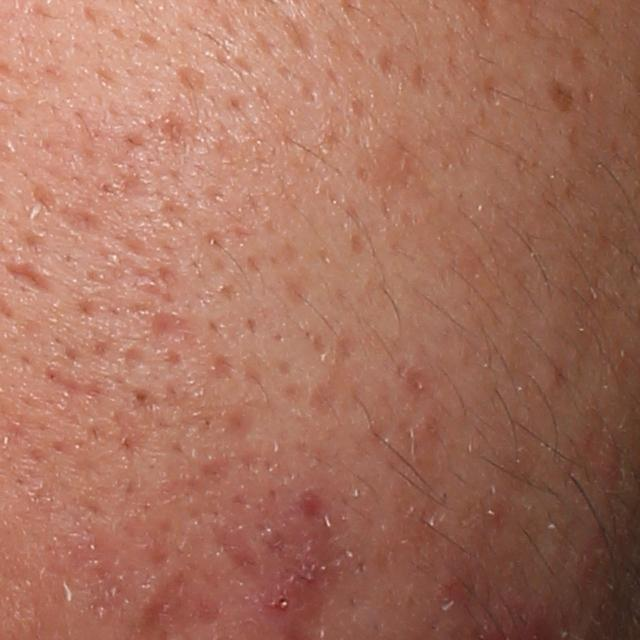atrophic_scar: (307, 334, 363, 422), (209, 518, 270, 578), (44, 363, 112, 403), (54, 200, 105, 241), (280, 14, 319, 57), (143, 312, 197, 341), (4, 262, 47, 293), (481, 70, 503, 111), (178, 65, 207, 95)
